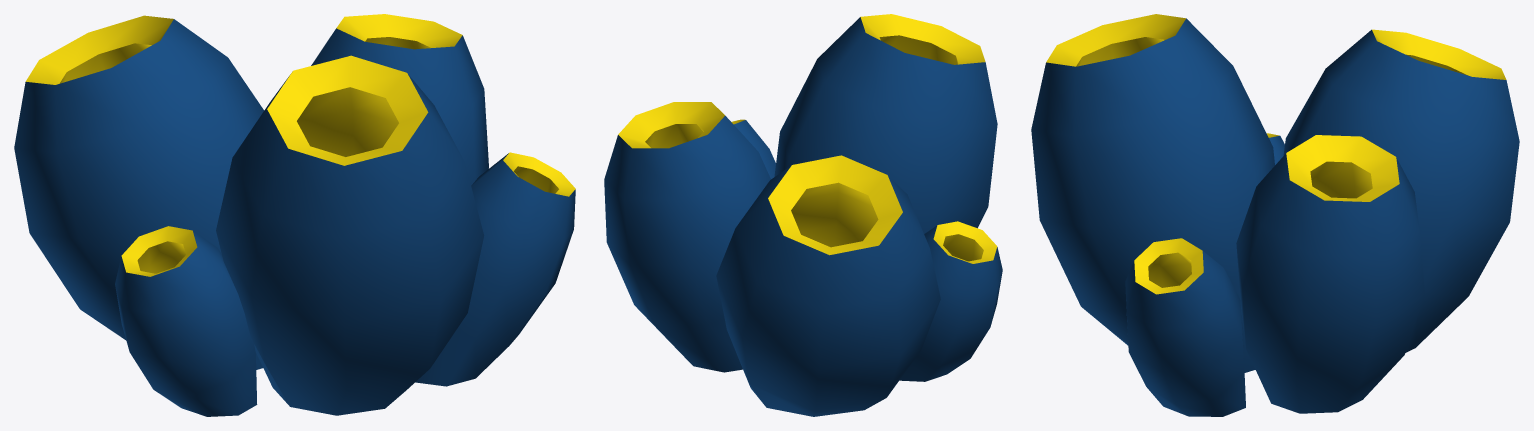
File: Sea_plant_2.001.fbx
3 views of the same model, side by side, from view 1: azimuth 30°, elevation 25°; view 2: azimuth 150°, elevation 25°; view 3: azimuth 270°, elevation 25° (orthographic). The views are drawn at different scales.
Parts seen in each view (by area): view 1: Sea_plant_2.001; view 2: Sea_plant_2.001; view 3: Sea_plant_2.001.
Part boxes in pixels (x1,y1,x2,y2): Sea_plant_2.001: [14, 14, 575, 416]; Sea_plant_2.001: [604, 14, 1002, 416]; Sea_plant_2.001: [1031, 14, 1519, 416].
Size of the model in its own units: 0.9615 by 0.7816 by 1.09.
